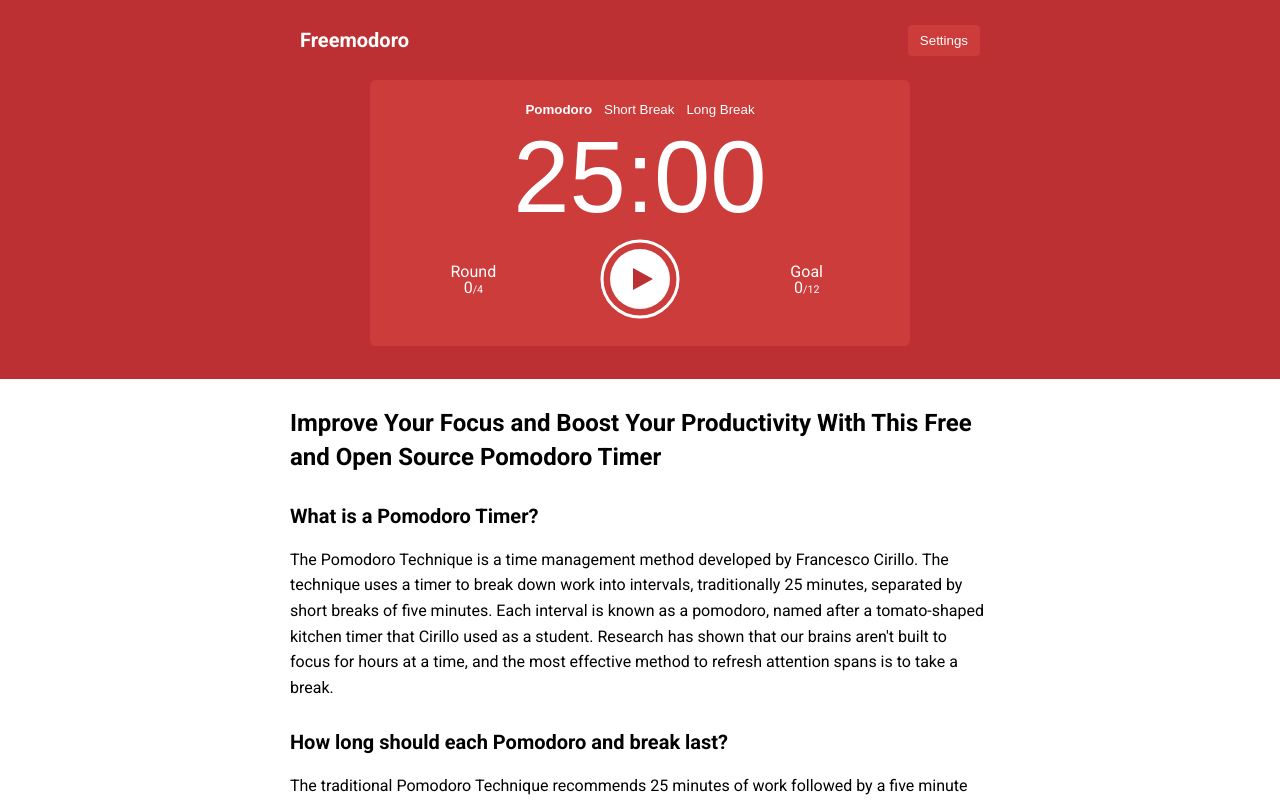
Test case: Clicking timer display resets timer after timer start
Click the button with test id "timer-button" at (640, 280), box [596,235,684,326]
Wait 1000 ms
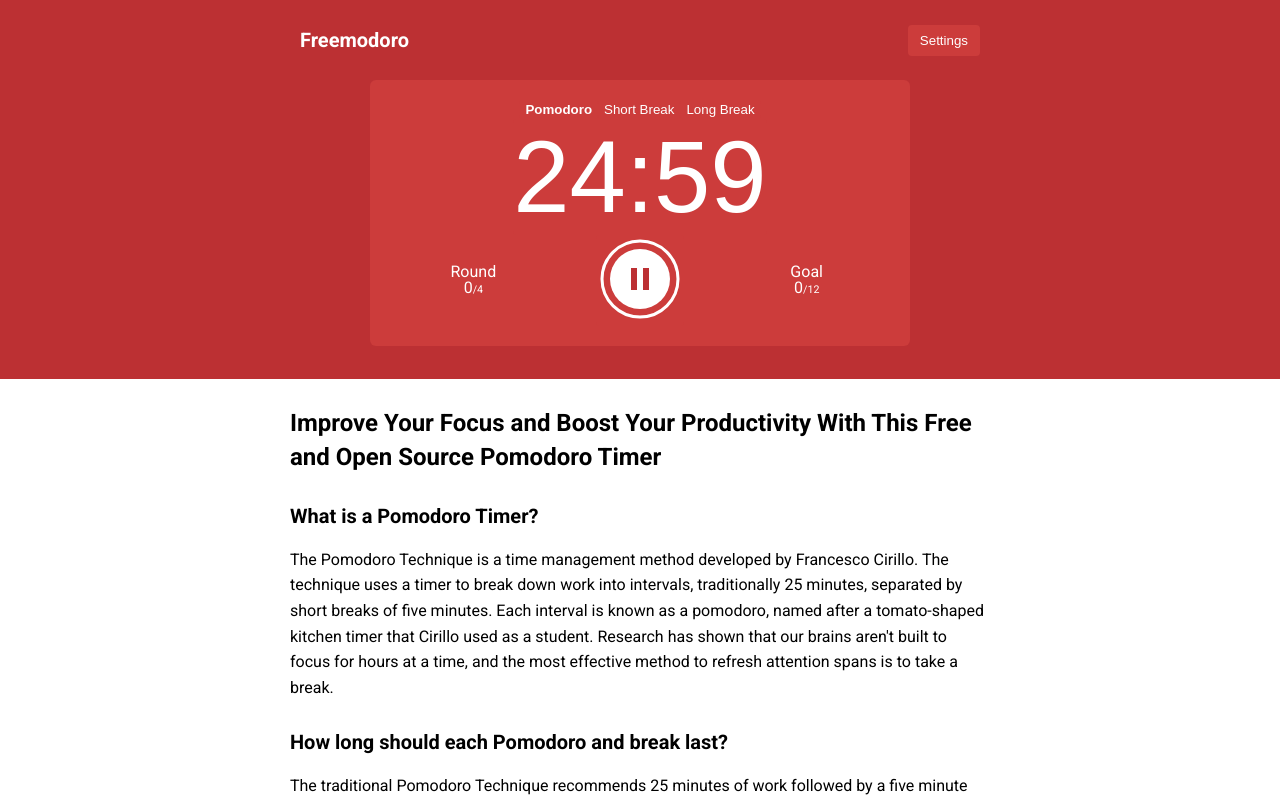
Now the text with test id "timerDisplay" reads "24:59"
Click the button with test id "timer-display" at (640, 177), box [513,119,767,235]
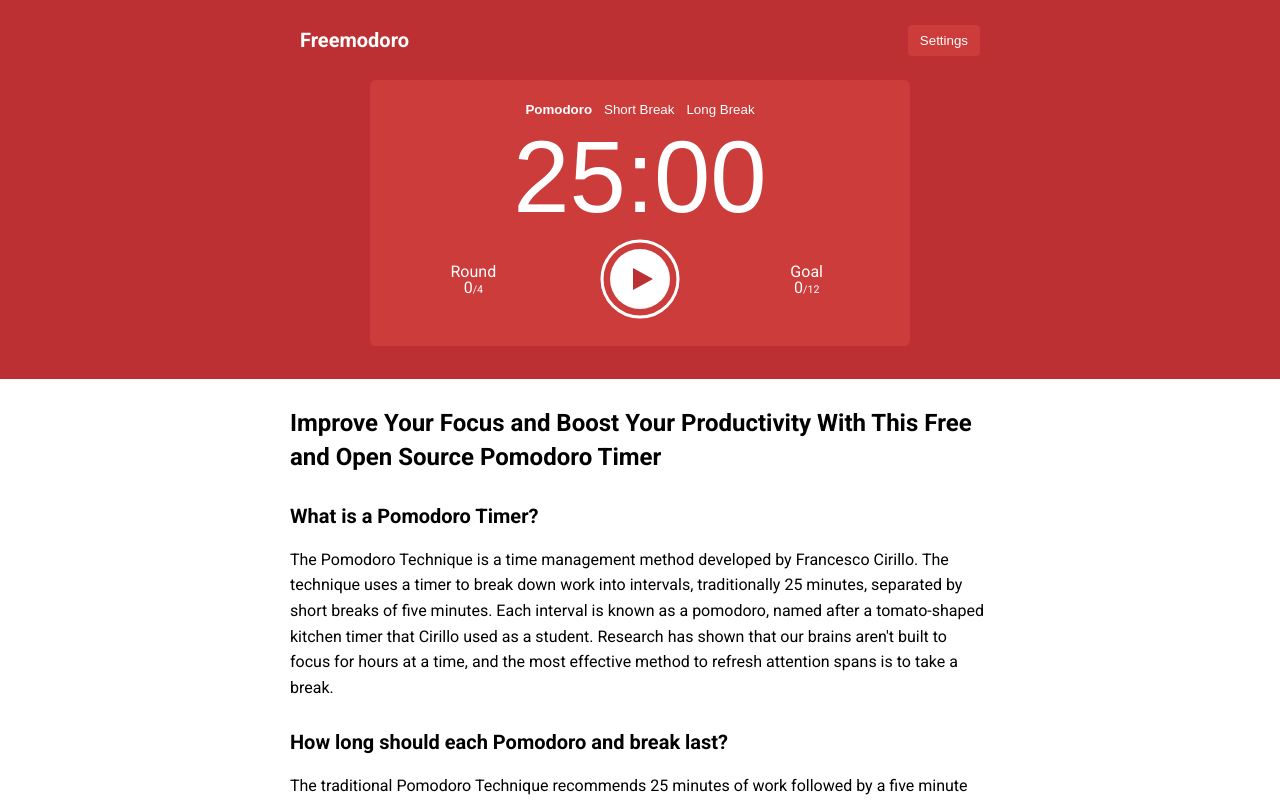
Now the text with test id "timerDisplay" reads "25:00", box [513,120,767,233]
